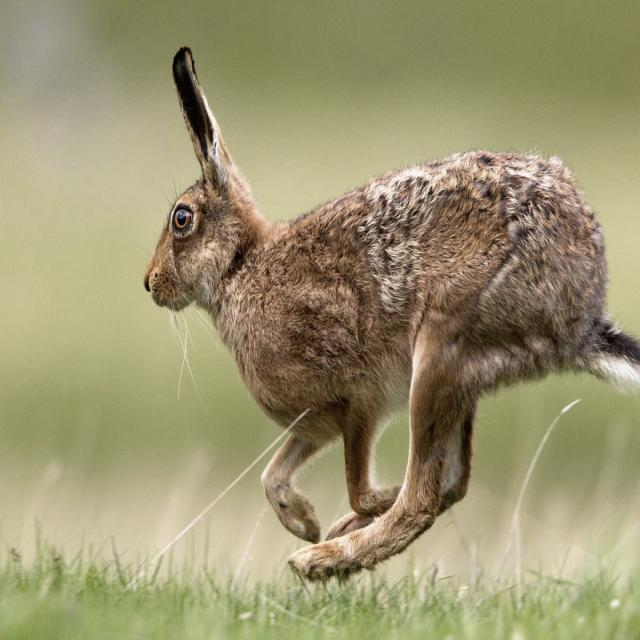hare: (143, 47, 640, 581)
